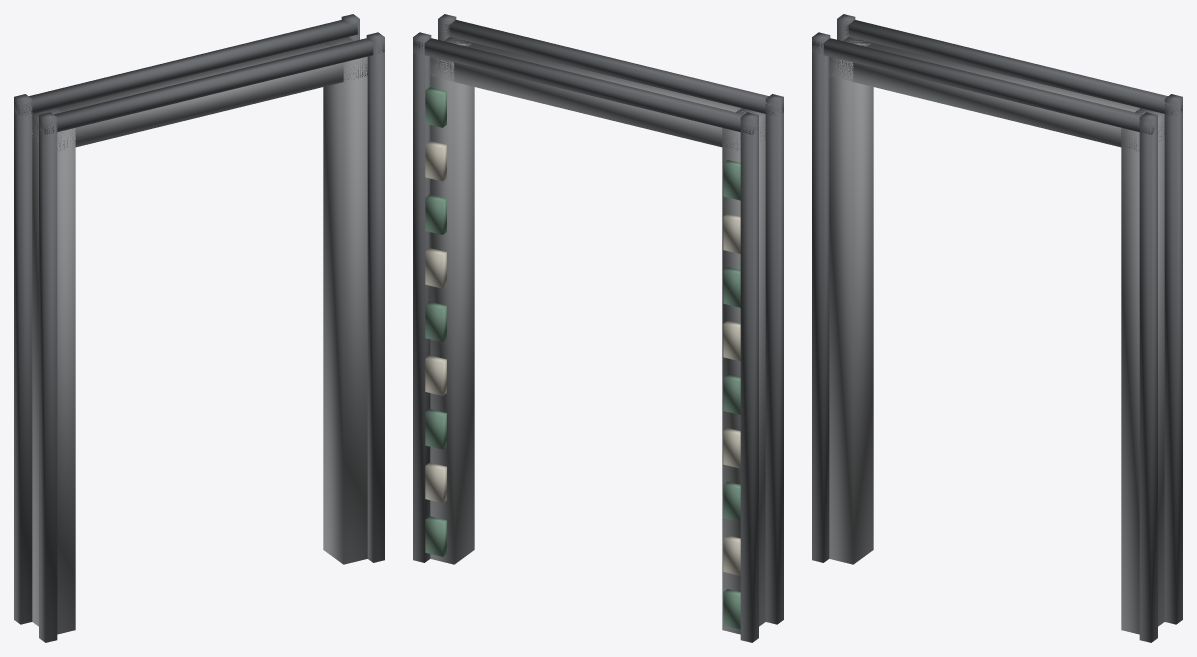
The model's file is doorway_tile_return_w122_h210_d16.glb.
3 views of the same model, side by side, from view 1: azimuth 30°, elevation 25°; view 2: azimuth 150°, elevation 25°; view 3: azimuth 330°, elevation 25° (orthographic).
Visible parts, largest first — view 1: world; view 2: world; view 3: world.
Boxes of the visible parts, x1=… form: world: x1=14, y1=14, x2=384, y2=642; world: x1=413, y1=14, x2=783, y2=642; world: x1=812, y1=14, x2=1182, y2=642.
Size of the model in its own units: 1.55 by 2.28 by 0.2496.
